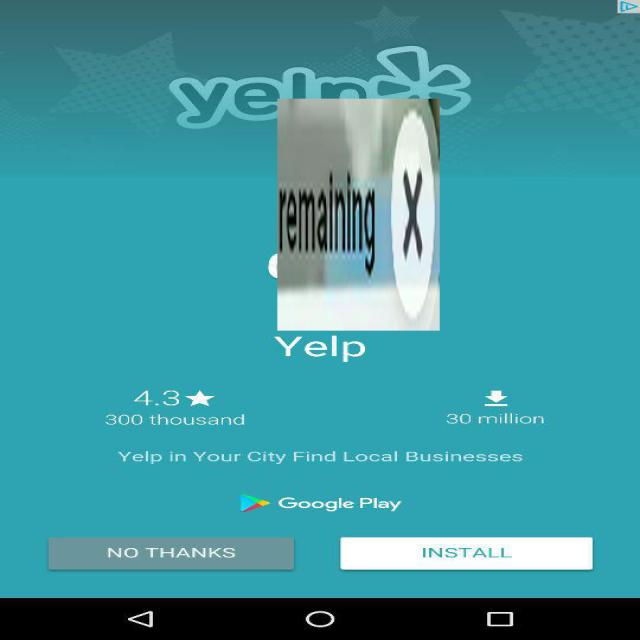misdirection: (277, 98, 440, 330)
